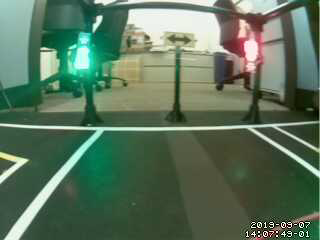Left_Right_sign: (163, 31, 197, 49)
Traffic_light_green: (74, 34, 89, 70)
Traffic_light_red: (245, 41, 258, 74)
